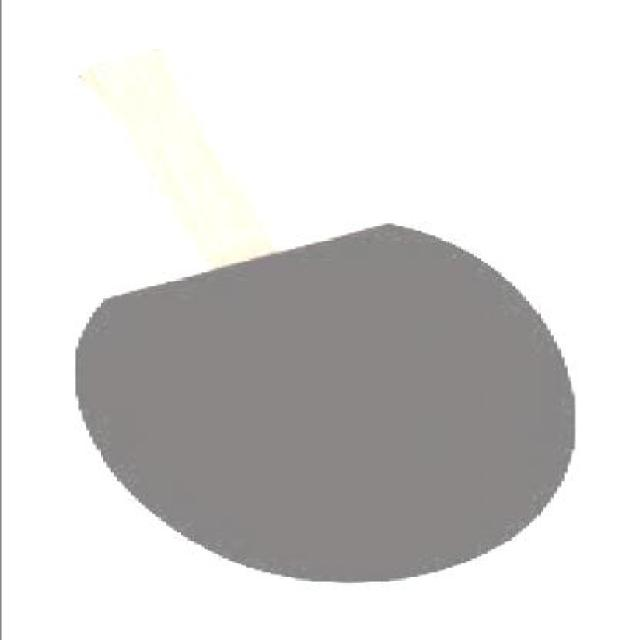table_tennis_racket: (67, 205, 582, 590)
